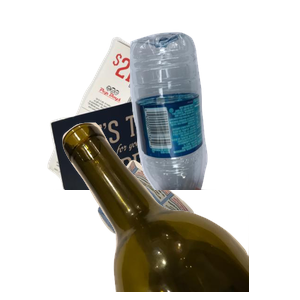glass: (60, 120, 300, 300)
paper: (45, 34, 230, 214)
plastic: (127, 29, 300, 209)
trash: (95, 157, 282, 300)
